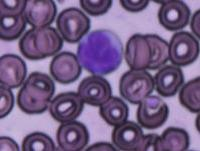M: (76, 29, 123, 75)
